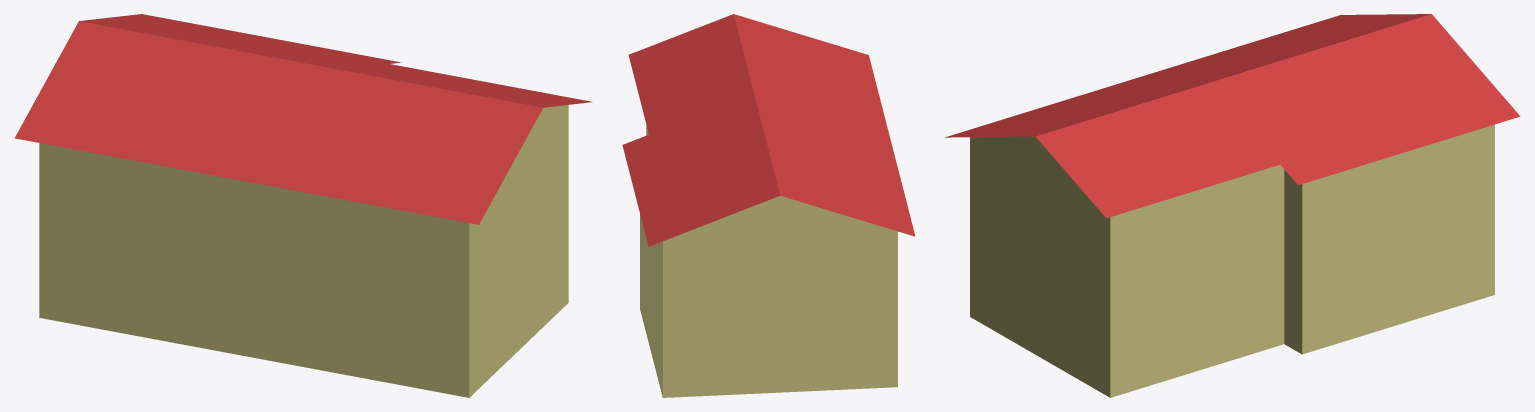
3 renders of one model, left to right at view 1: azimuth 30°, elevation 25°; view 2: azimuth 150°, elevation 25°; view 3: azimuth 270°, elevation 25°, orthographic. The views are drawn at different scales.
Size of the model in its own units: 21.02 by 23.68 by 10.49.
